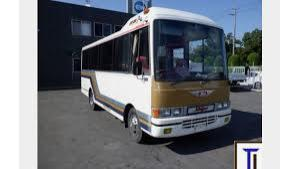bus: (82, 5, 231, 143)
